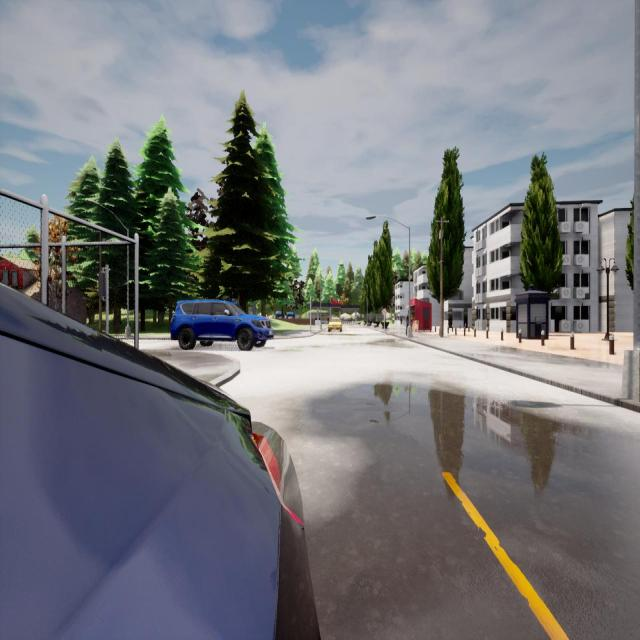Pedestrian: (406, 309, 410, 335)
Traffic_Signs: (382, 309, 386, 315)
Vehicle: (0, 285, 316, 640), (170, 300, 272, 350), (328, 317, 342, 332)
traffic_light: (98, 273, 105, 296)
